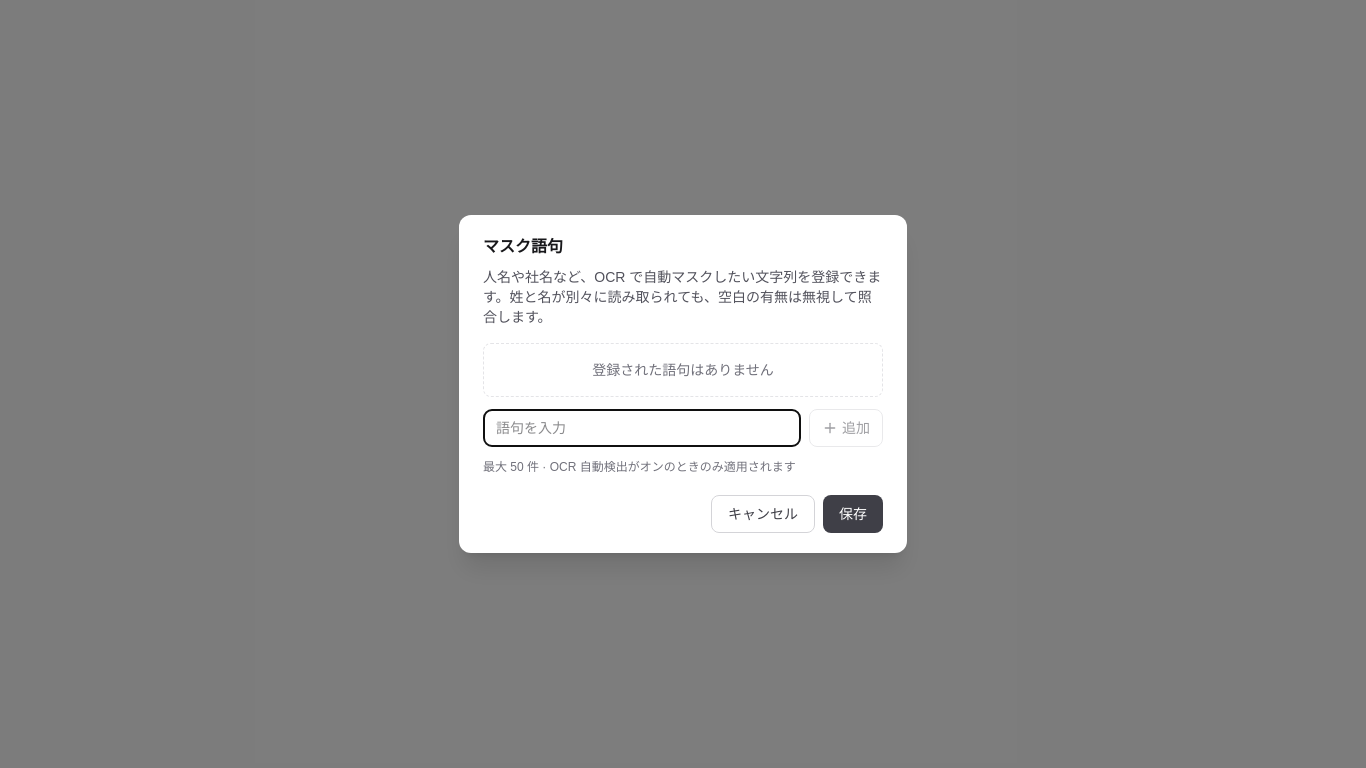
Test: CustomMaskTermsModal › 追加後は入力欄をクリアする
Step 1. Type "山田太郎" into the field with placeholder "語句を入力" → (642, 428), box [483,409,801,447]
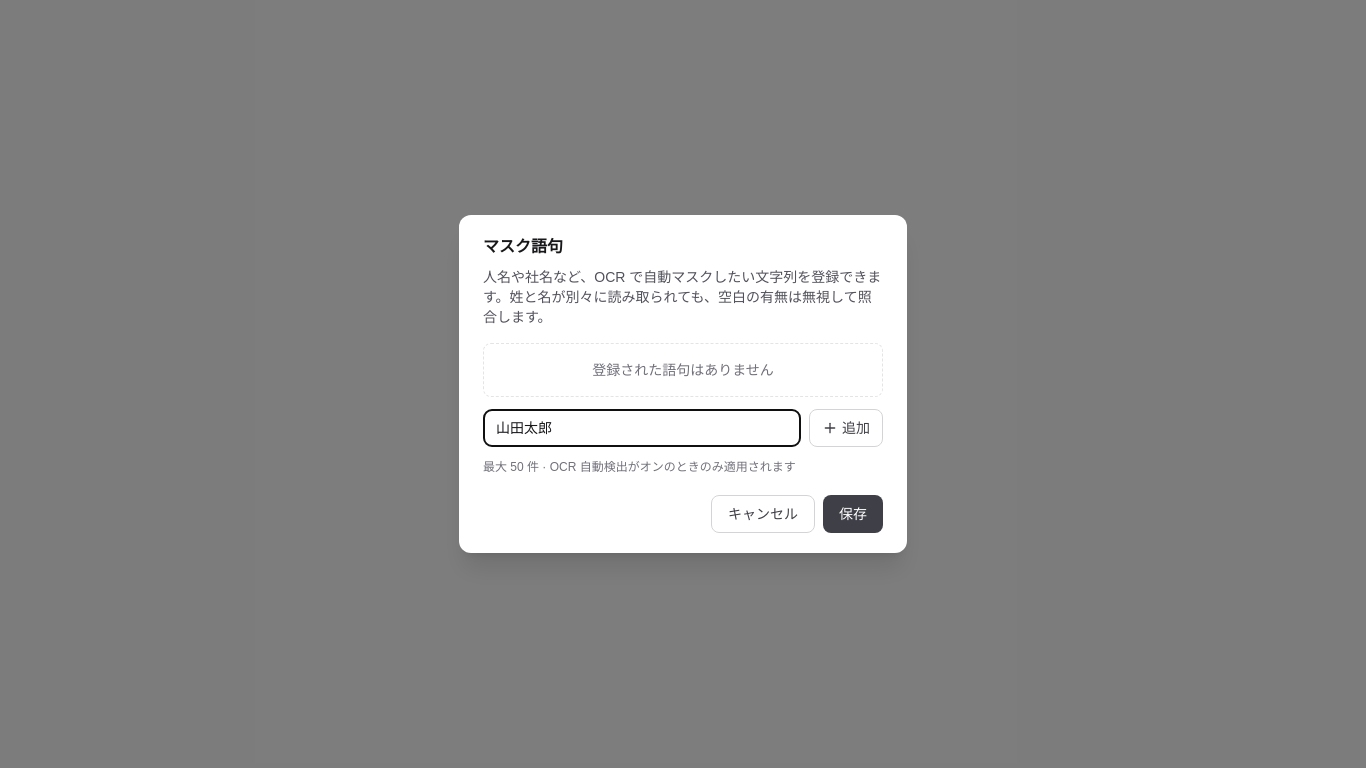
Step 2. Click the button "追加" → (846, 428), box [809,409,883,447]
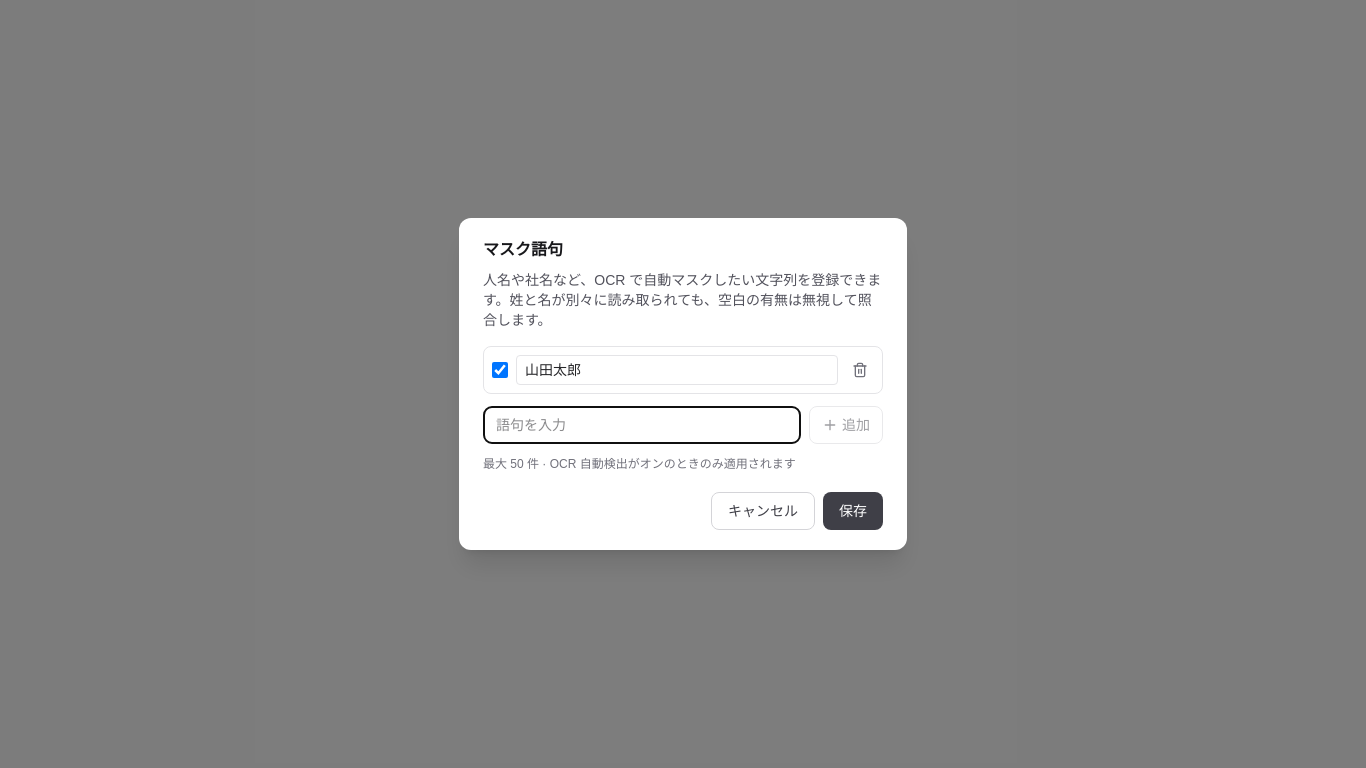
Expected: the field with placeholder "語句を入力" is empty, [483,406,801,444]
Expected: the field named "山田太郎 を編集" is shown, [516,355,838,385]
